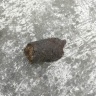Dog: (24, 37, 67, 64)
